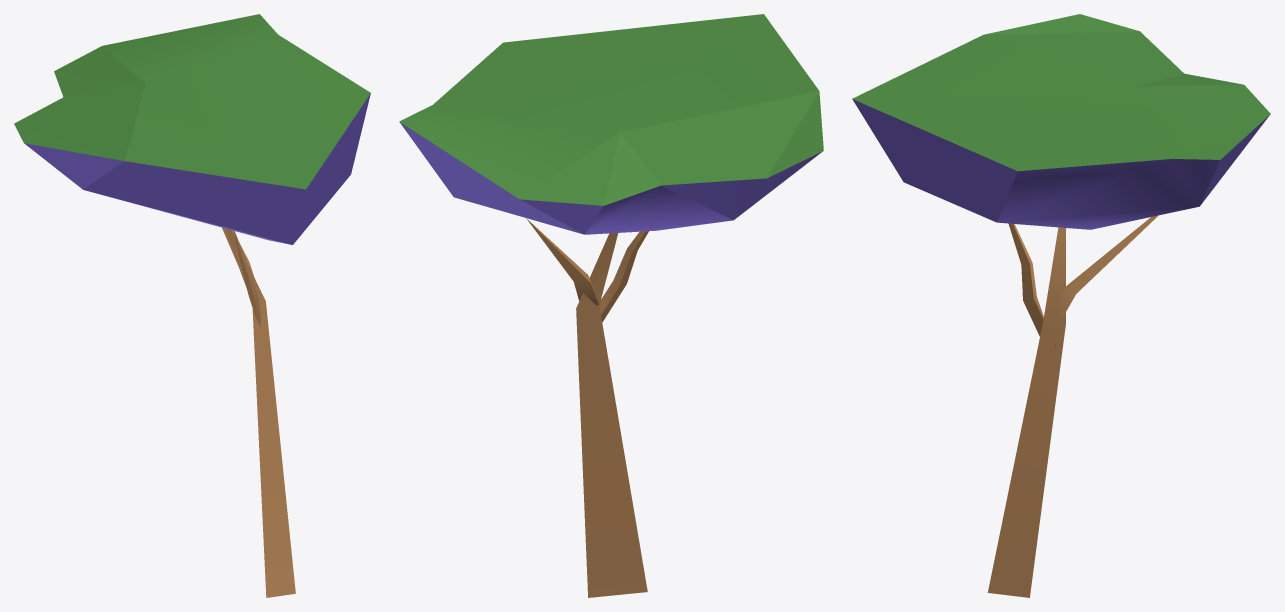
The model's file is tree_A_canopy_B_C_solo_LOD3.fbx.
3 renders of one model, left to right at view 1: azimuth 30°, elevation 25°; view 2: azimuth 150°, elevation 25°; view 3: azimuth 270°, elevation 25°, orthographic. The views are drawn at different scales.
Visible parts, largest first — view 1: tree_A_canopy_B_C, tree_B_canopy_B_C_trunk_A, tree_B_canopy_B_C_trunk_B; view 2: tree_A_canopy_B_C, tree_B_canopy_B_C_trunk_A, tree_B_canopy_B_C_trunk_B, tree_B_canopy_B_C_trunk_C; view 3: tree_A_canopy_B_C, tree_B_canopy_B_C_trunk_A, tree_B_canopy_B_C_trunk_B, tree_B_canopy_B_C_trunk_C.
Boxes of the visible parts, x1,y1,x2,y2 form: tree_A_canopy_B_C: (14,14,370,244); tree_B_canopy_B_C_trunk_A: (225,229,295,597); tree_B_canopy_B_C_trunk_B: (233,231,260,327); tree_A_canopy_B_C: (399,14,823,234); tree_B_canopy_B_C_trunk_A: (576,233,647,597); tree_B_canopy_B_C_trunk_B: (599,231,648,322); tree_B_canopy_B_C_trunk_C: (526,218,598,305); tree_A_canopy_B_C: (852,14,1270,229); tree_B_canopy_B_C_trunk_A: (987,227,1066,597); tree_B_canopy_B_C_trunk_B: (1008,223,1055,346); tree_B_canopy_B_C_trunk_C: (1059,215,1158,321).
Bounding box in the file's own units: 330 × 476 × 381.
